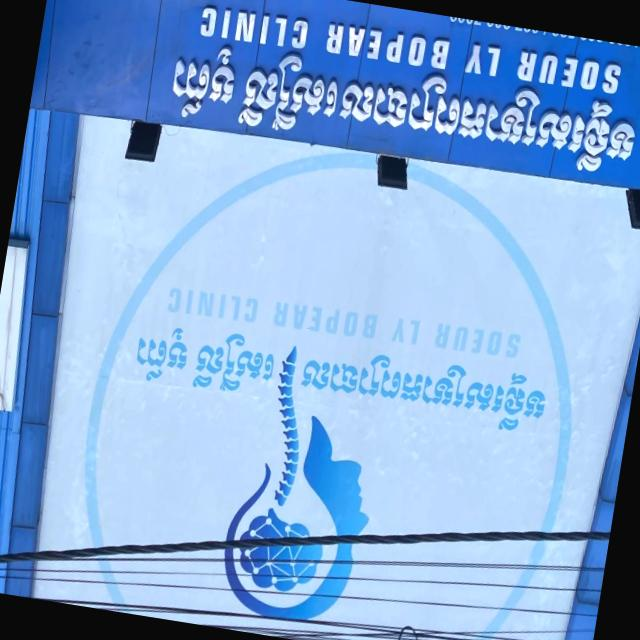1: (160, 34, 640, 186), (128, 316, 283, 399)
Yolov11_80vkh: (295, 335, 557, 447)
